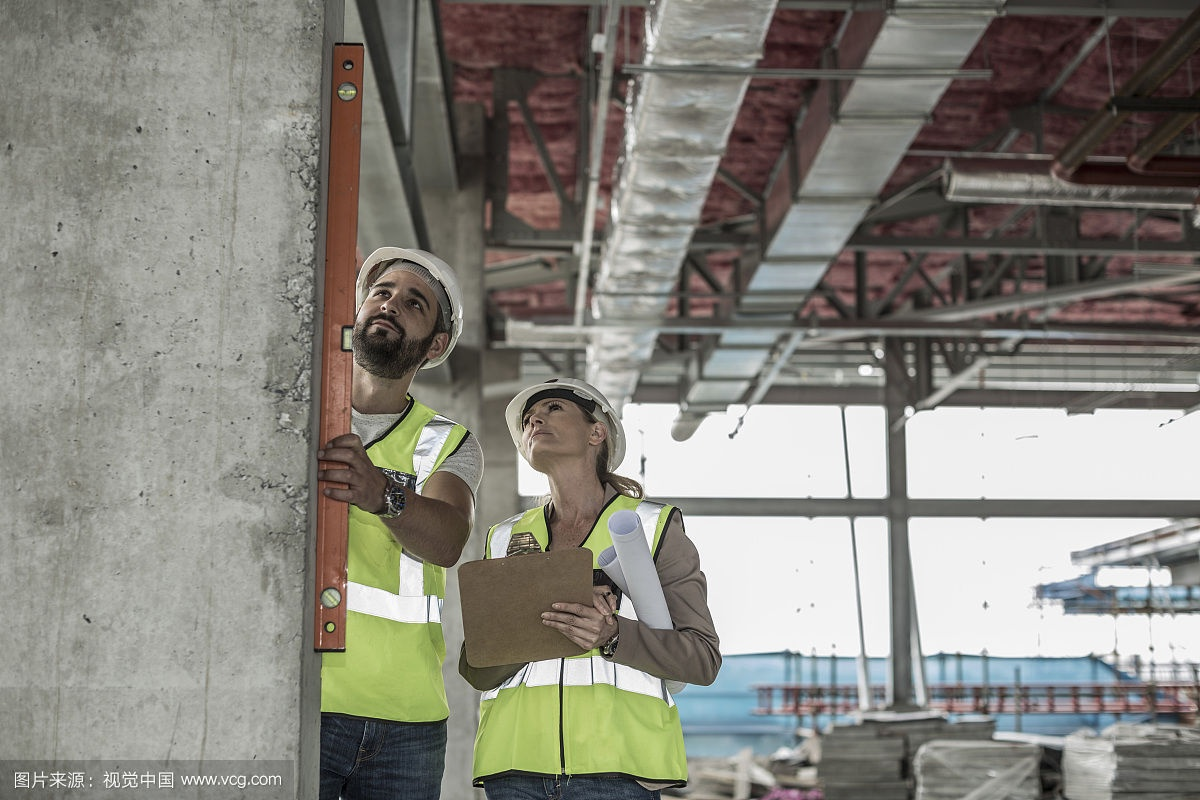white: (353, 241, 464, 379), (505, 371, 628, 490)
